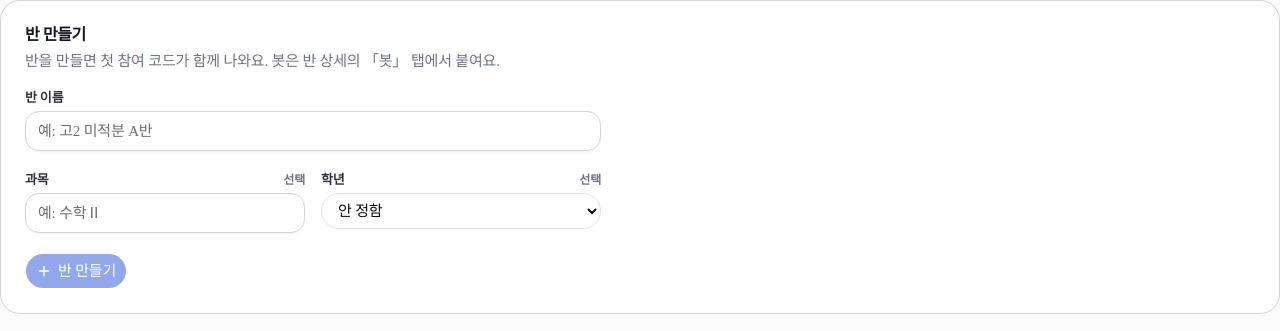
CreateClassroomForm › 이름이 비어 있으면 못 보낸다 — 과목·학년은 선택이다
Expected: the button with test id "create-classroom-submit" is disabled, [25,253,127,289]
Expected: the dropdown with test id "classroom-grade-select" shows "안 정함", [321,193,601,229]
In the field with test id "classroom-name-input": (313, 131) [25,111,601,151], type "고2 미적분 A반"
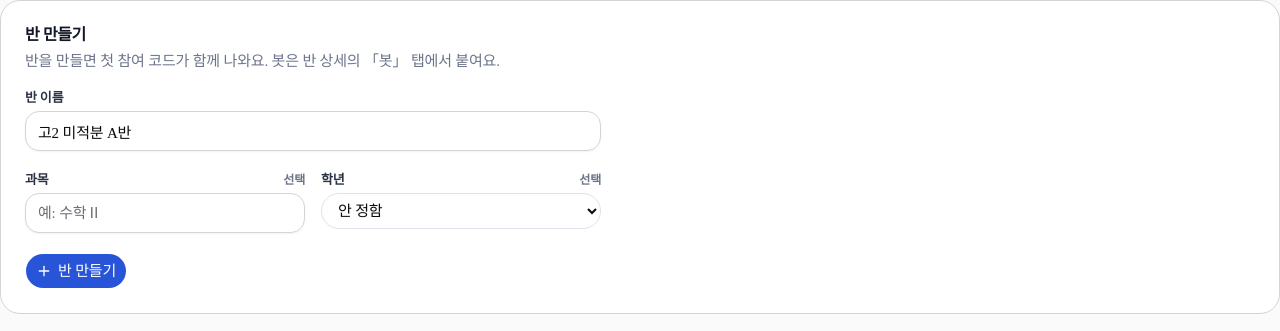
Expected: the button with test id "create-classroom-submit" is enabled, [25,253,127,289]
